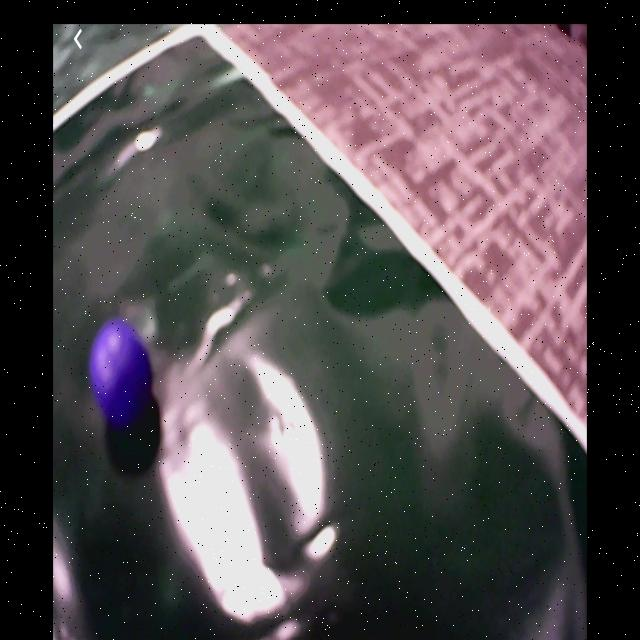ball: (92, 319, 153, 429)
